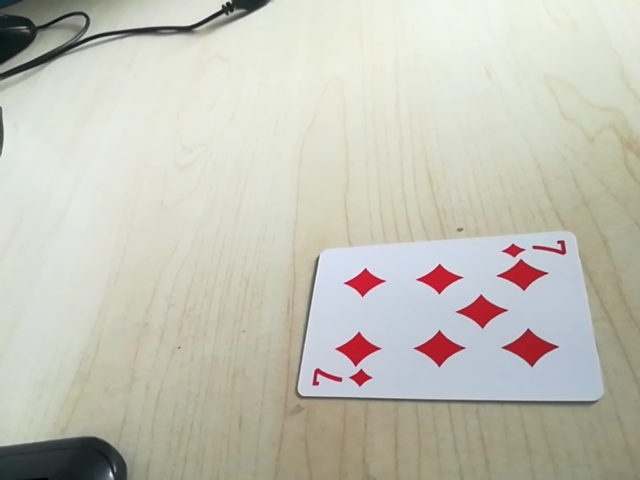fk 7: (499, 236, 574, 264), (303, 367, 374, 393)
